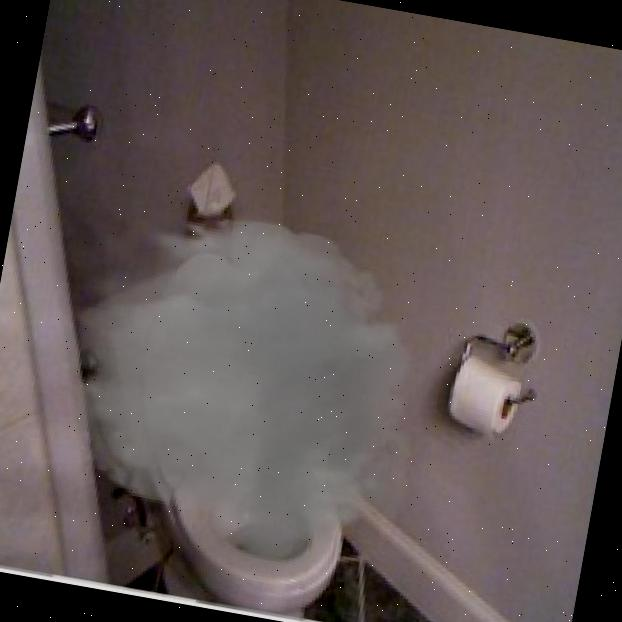smoke: (0, 175, 467, 621)
